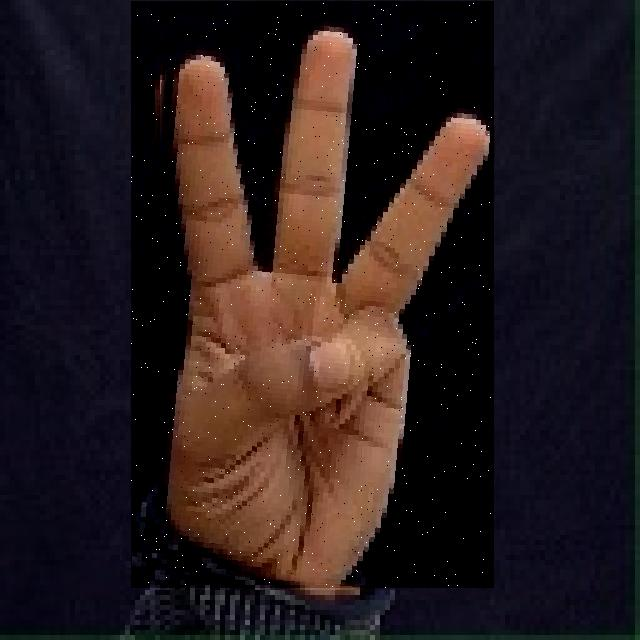Please: (131, 1, 494, 588)
